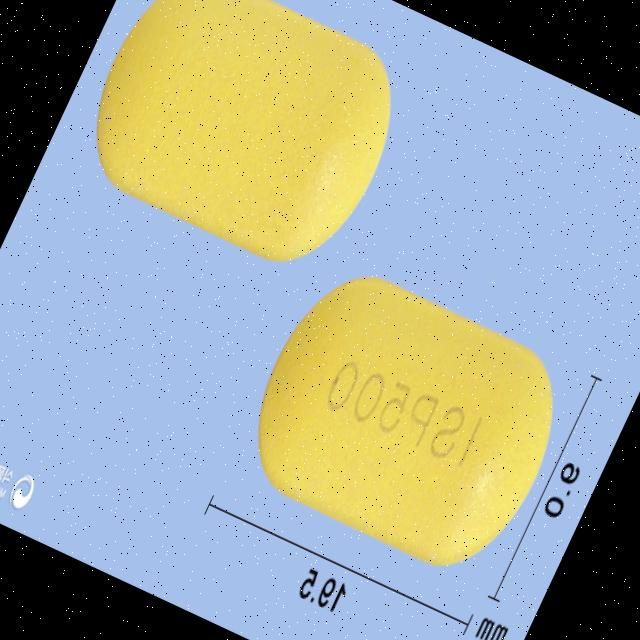Ilsung Clarithromycin: (225, 250, 587, 588), (65, 0, 425, 286)
